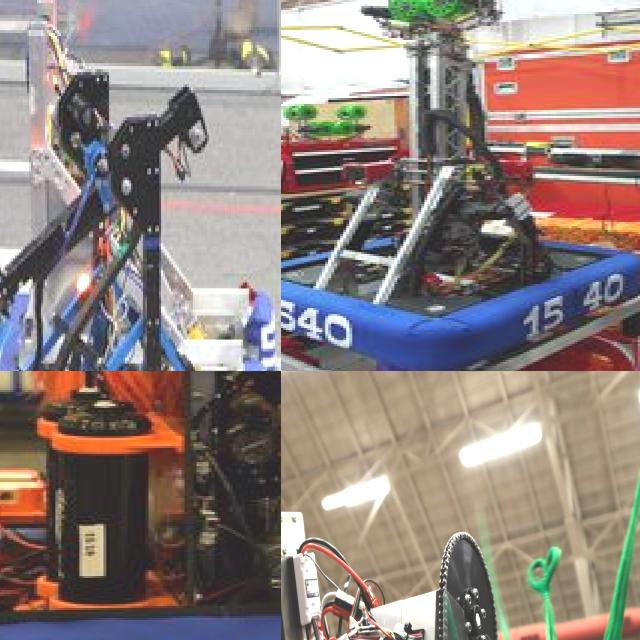FRC-Robots: (281, 0, 640, 364), (0, 42, 281, 371), (0, 371, 281, 640), (281, 459, 482, 640)
